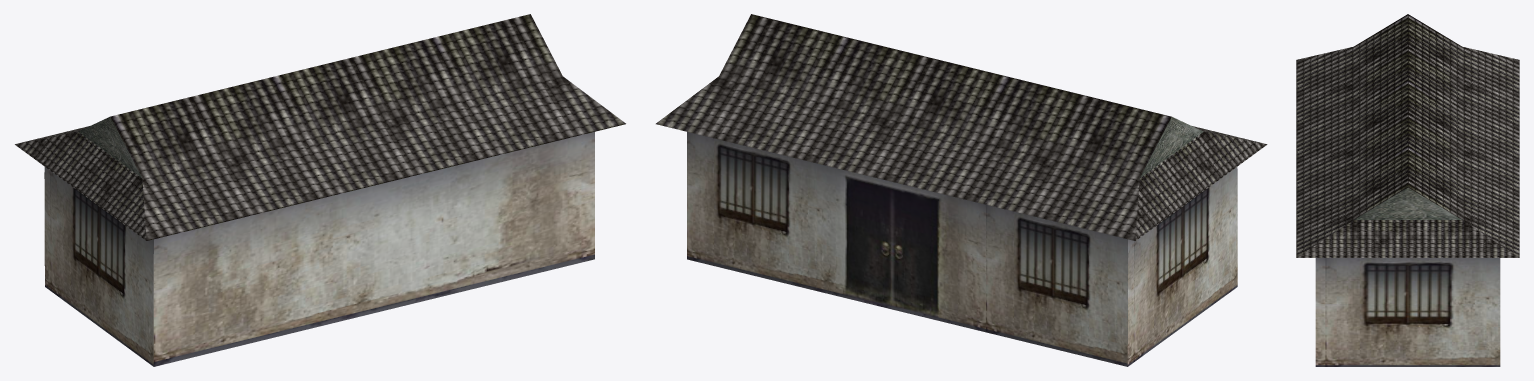
Rendered from ian1569.obj.
The picture shows the model from 3 angles, left to right: view 1: azimuth 30°, elevation 25°; view 2: azimuth 150°, elevation 25°; view 3: azimuth 270°, elevation 25°; orthographic projection. The views are drawn at different scales.
Parts seen in each view (by area): view 1: ian1569; view 2: ian1569; view 3: ian1569.
Part boxes in pixels (x1,y1,x2,y2): ian1569: [15, 14, 625, 366]; ian1569: [656, 14, 1267, 366]; ian1569: [1296, 14, 1519, 366].
Size of the model in its own units: 247 by 102 by 118.
